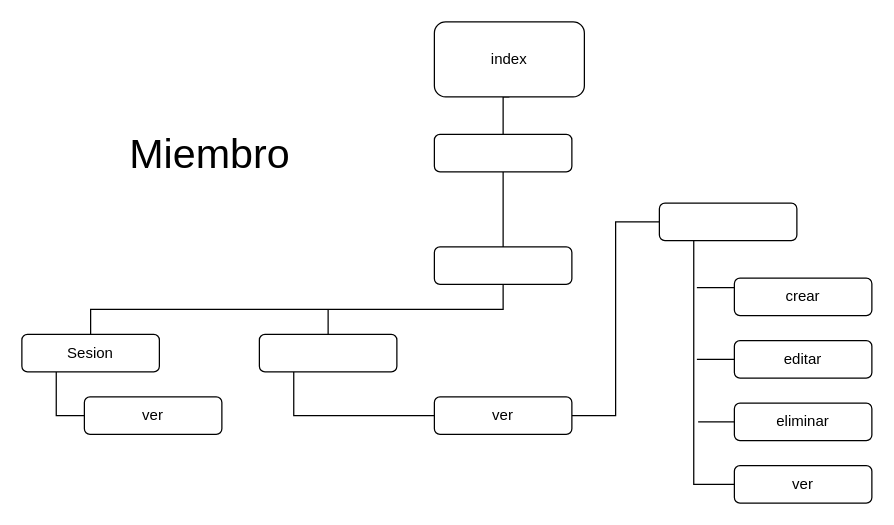
This 894x525 diagram has some shape labels left out. The shapes that lost their labels are listed below. From the top down, each one's centre as x and y in pixels, then its label:
At point 502,152: "iniciar sesion".
At point 727,221: "Observacion".
At point 502,265: "Panel principal".
At point 327,352: "Documento".
